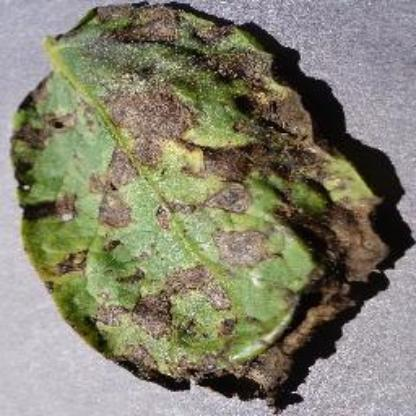Early-Blight: (2, 7, 392, 405)
